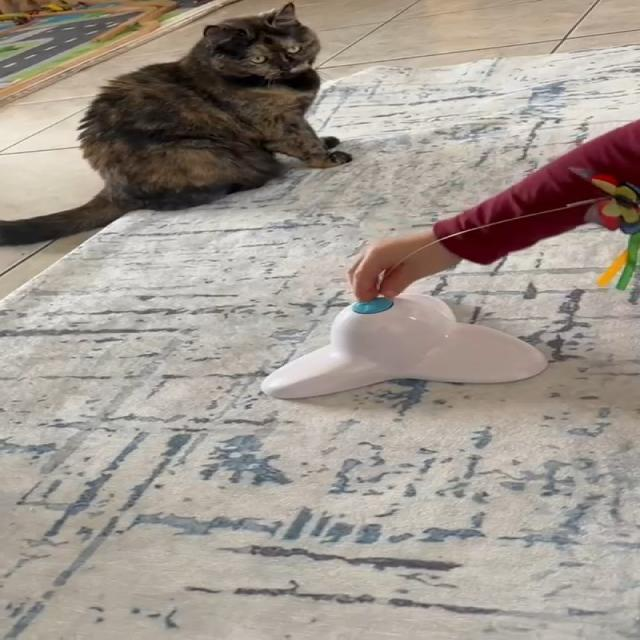authorized: (0, 1, 352, 247)
